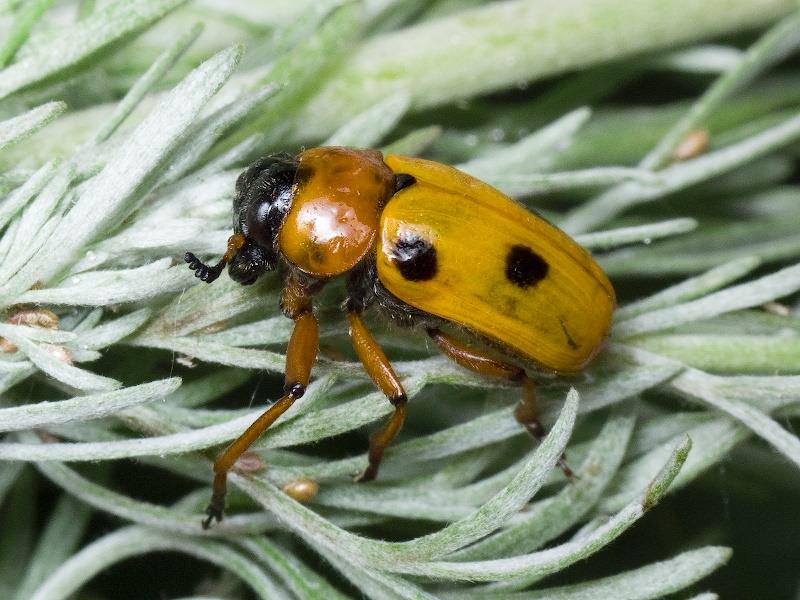Tituboea_macropus: (171, 129, 631, 539)
